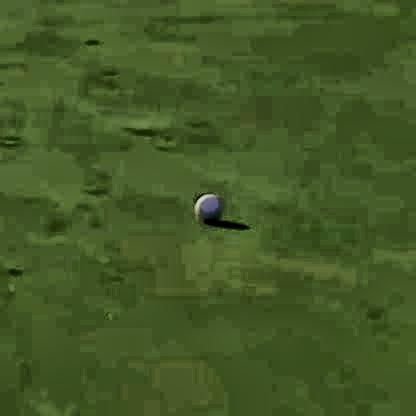golfball: (190, 185, 223, 222)
